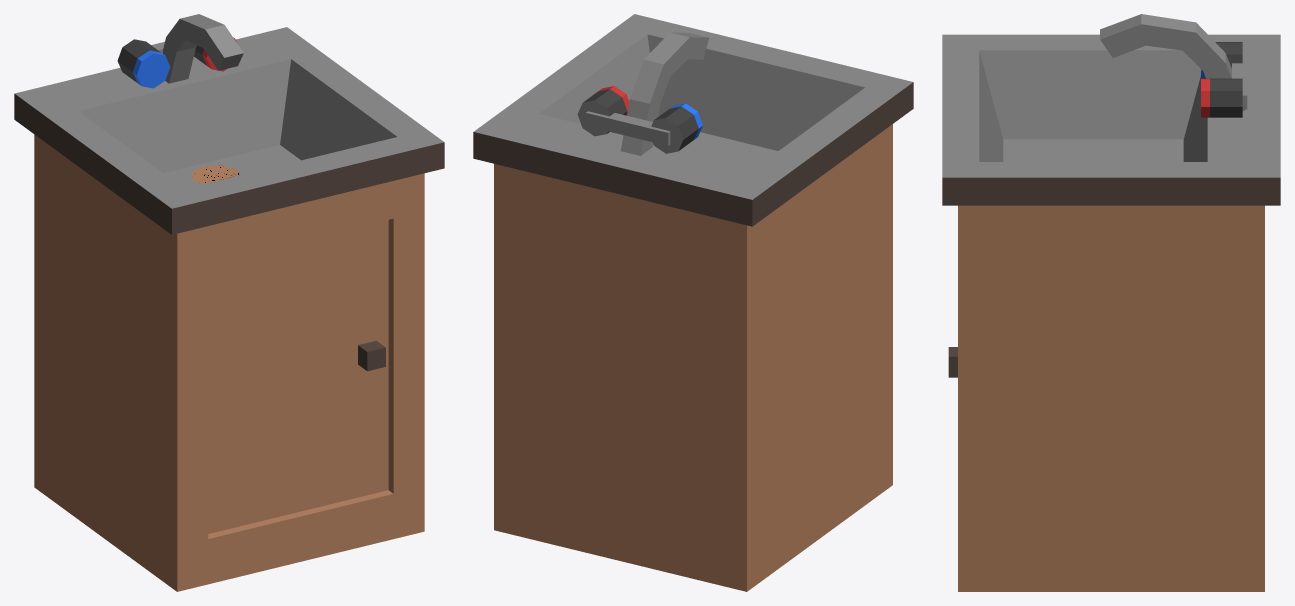
The model's file is Rakovina.fbx.
3 renders of one model, left to right at view 1: azimuth 30°, elevation 25°; view 2: azimuth 150°, elevation 25°; view 3: azimuth 270°, elevation 25°, orthographic. The views are drawn at different scales.
Parts seen in each view (by area): view 1: Cube.002; view 2: Cube.002; view 3: Cube.002.
Boxes of the visible parts, x1,y1,x2,y2 form: Cube.002: (14, 14, 444, 591); Cube.002: (473, 14, 913, 591); Cube.002: (942, 14, 1280, 591).
Bounding box in the file's own units: 143 × 237 × 143.
